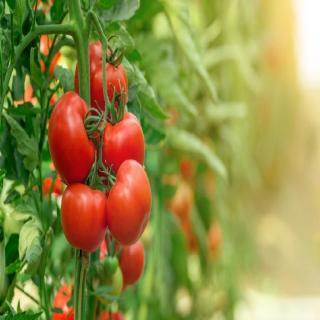Tomat: (49, 91, 100, 185), (107, 159, 153, 248), (61, 182, 109, 254)
